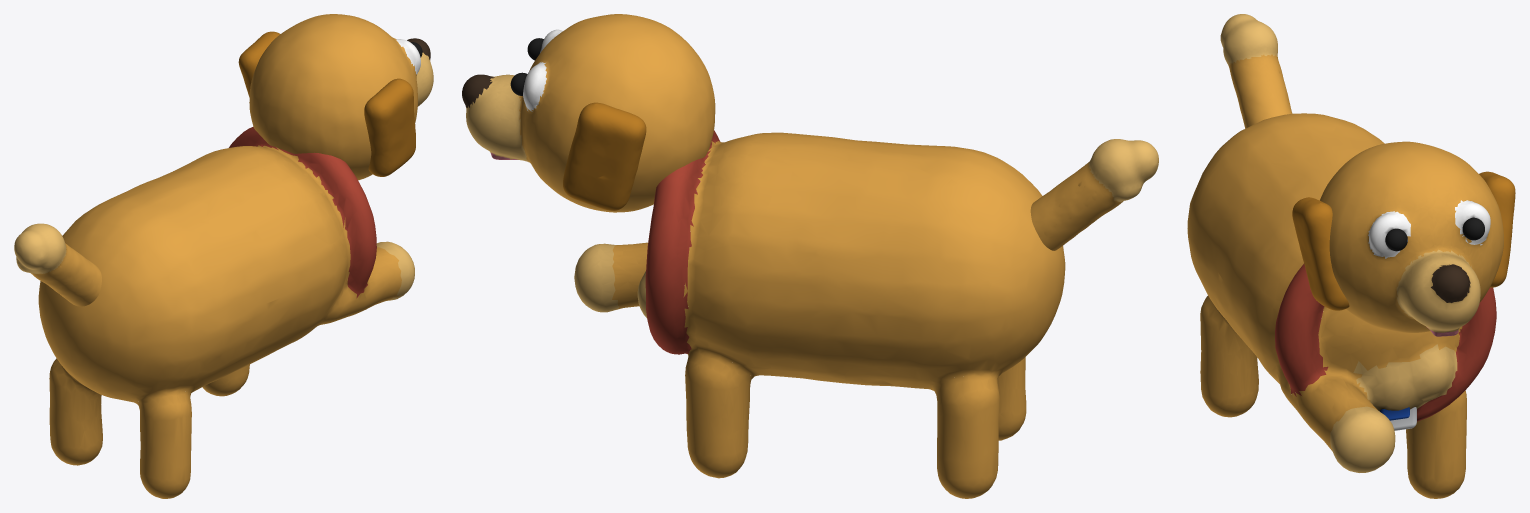
File: gar-den-har-till-t-centralen.glb
3 views of the same model, side by side, from view 1: azimuth 30°, elevation 25°; view 2: azimuth 150°, elevation 25°; view 3: azimuth 270°, elevation 25° (orthographic). The views are drawn at different scales.
Visible parts, largest first — view 1: golden-corpo__r0, golden-cabeca__r0, golden-orelhas__r0, golden-rabo__r0; view 2: golden-corpo__r0, golden-cabeca__r0, golden-rabo__r0, golden-orelhas__r0; view 3: golden-corpo__r0, golden-cabeca__r0, golden-rabo__r0, golden-orelhas__r0, golden-cabeca__r2, golden-cabeca__r1.
Part boxes in pixels (bbox=[...]): golden-corpo__r0: bbox=[38, 126, 414, 498]; golden-cabeca__r0: bbox=[249, 14, 433, 180]; golden-orelhas__r0: bbox=[238, 31, 415, 176]; golden-rabo__r0: bbox=[14, 223, 101, 306]; golden-corpo__r0: bbox=[574, 130, 1065, 498]; golden-cabeca__r0: bbox=[462, 14, 715, 212]; golden-rabo__r0: bbox=[1030, 139, 1158, 250]; golden-orelhas__r0: bbox=[563, 102, 646, 210]; golden-corpo__r0: bbox=[1187, 113, 1496, 498]; golden-cabeca__r0: bbox=[1320, 141, 1503, 336]; golden-rabo__r0: bbox=[1220, 14, 1292, 128]; golden-orelhas__r0: bbox=[1292, 171, 1515, 310]; golden-cabeca__r2: bbox=[1462, 217, 1484, 240]; golden-cabeca__r1: bbox=[1385, 228, 1407, 251].
Bounding box in the file's own units: 1.57 × 1.06 × 0.7832.
